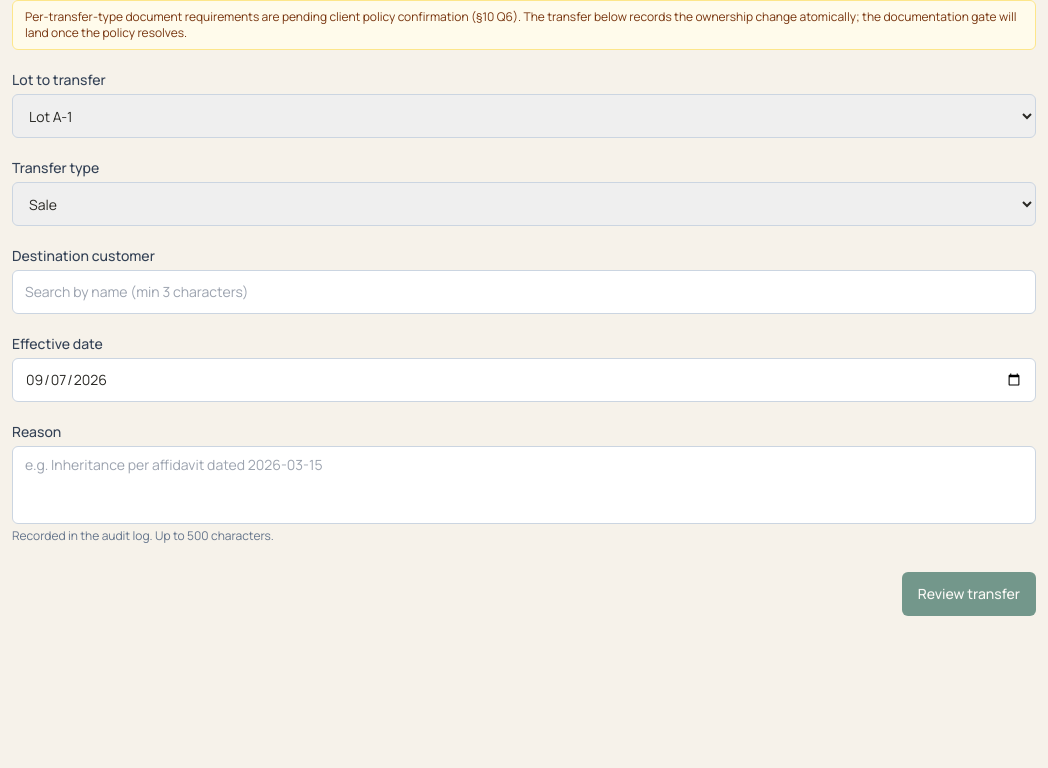
Test: OwnershipTransferForm — backdated alert › shows the backdated alert when the effective date is in the past
This screenshot has width=1048, height=768.
2 years in the past — comfortably outside the 24h slack.
Type "2020-01-01" into the date field labelled "Effective date" at (524, 380), box [12,358,1036,402]
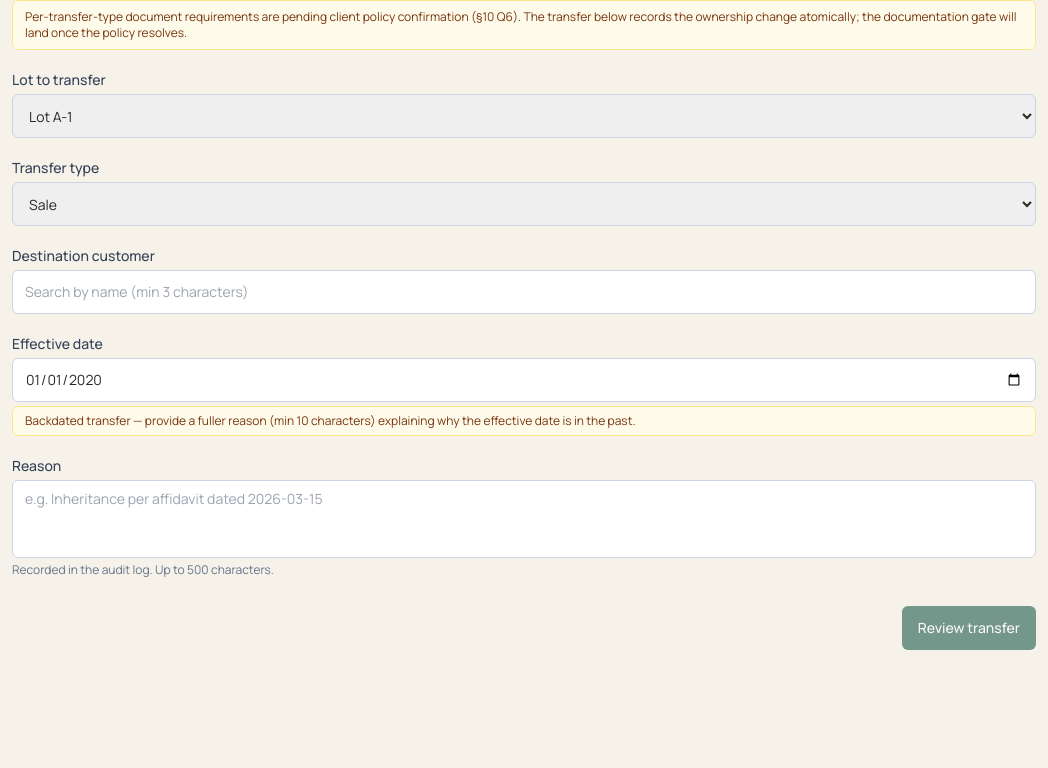
Expected: the message with test id "ownership-transfer-backdated" is shown, [12,406,1036,436]
